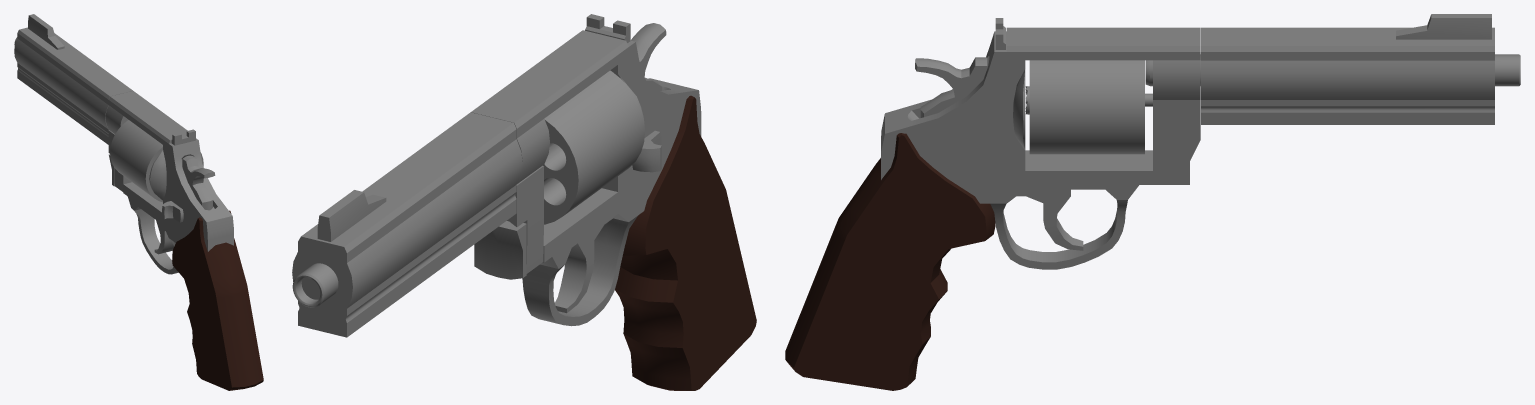
The model's file is weapon_revolver.fbx.
3 renders of one model, left to right at view 1: azimuth 30°, elevation 25°; view 2: azimuth 150°, elevation 25°; view 3: azimuth 270°, elevation 25°, orthographic. The views are drawn at different scales.
Visible parts, largest first — view 1: BARREL A; view 2: BARREL A; view 3: BARREL A.
Boxes of the visible parts, x1,y1,x2,y2 form: BARREL A: (14,14,263,390); BARREL A: (292,14,756,390); BARREL A: (785,14,1520,390).
Bounding box in the file's own units: 165 × 613 × 1122.
